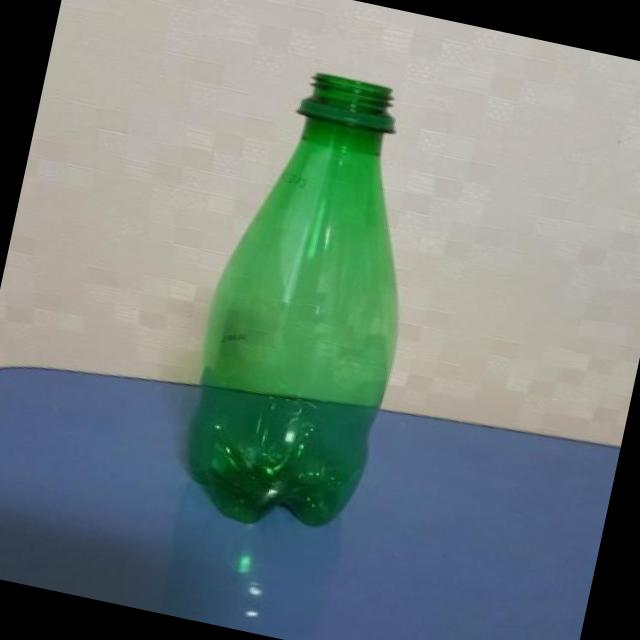plastic_bottle: (173, 58, 451, 546)
